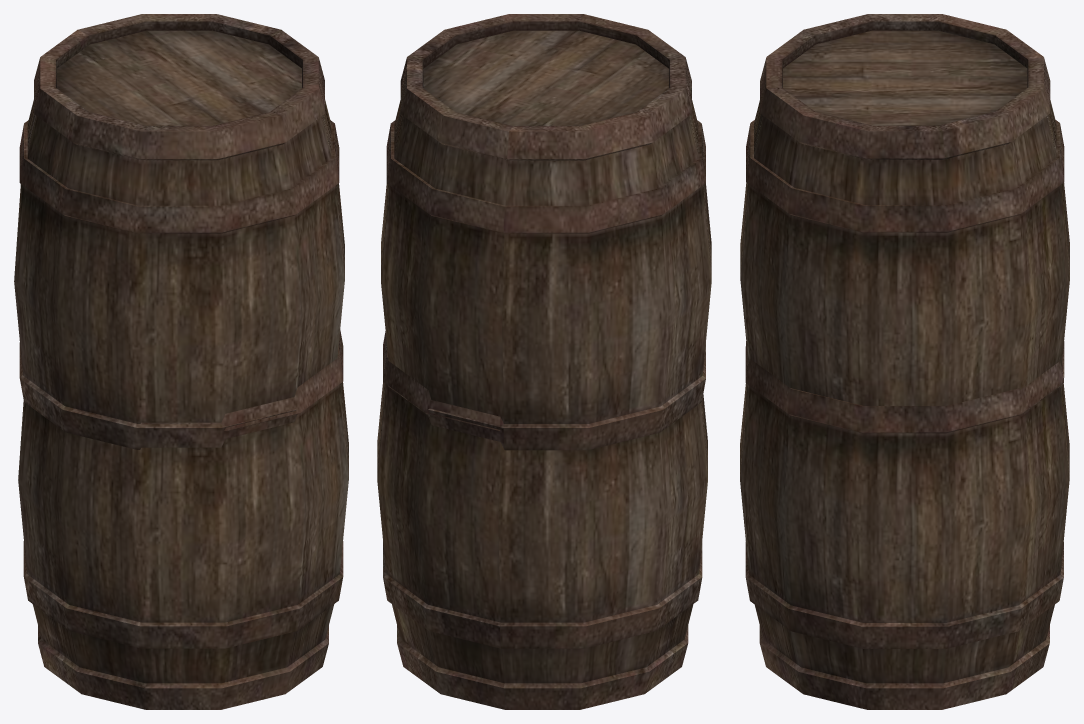
The model's file is drvena_bure.glb.
3 views of the same model, side by side, from view 1: azimuth 30°, elevation 25°; view 2: azimuth 150°, elevation 25°; view 3: azimuth 270°, elevation 25° (orthographic).
Parts seen in each view (by area): view 1: Wood_Barrel_1_aiStandardSurface7_0, Wood_Barrel_4_aiStandardSurface7_0; view 2: Wood_Barrel_1_aiStandardSurface7_0, Wood_Barrel_4_aiStandardSurface7_0; view 3: Wood_Barrel_1_aiStandardSurface7_0, Wood_Barrel_4_aiStandardSurface7_0.
Part boxes in pixels (left/top/right/bottom): Wood_Barrel_1_aiStandardSurface7_0: left=14, top=14, right=344, bottom=449; Wood_Barrel_4_aiStandardSurface7_0: left=18, top=330, right=348, bottom=709; Wood_Barrel_1_aiStandardSurface7_0: left=381, top=14, right=711, bottom=450; Wood_Barrel_4_aiStandardSurface7_0: left=377, top=331, right=707, bottom=709; Wood_Barrel_1_aiStandardSurface7_0: left=740, top=14, right=1069, bottom=415; Wood_Barrel_4_aiStandardSurface7_0: left=740, top=343, right=1069, bottom=709.
Size of the model in its own units: 38.78 by 73.92 by 38.31.
Materials: 1 (1 with a texture image).
